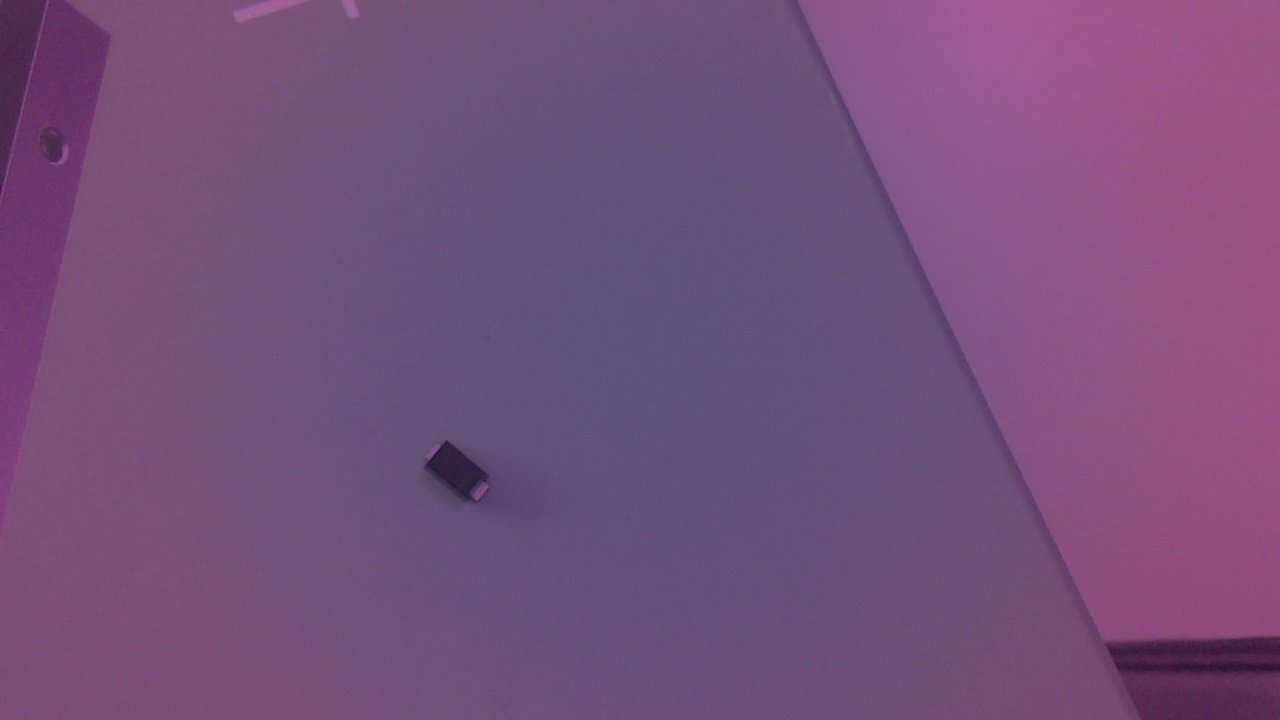Diode: (424, 443, 502, 512)
